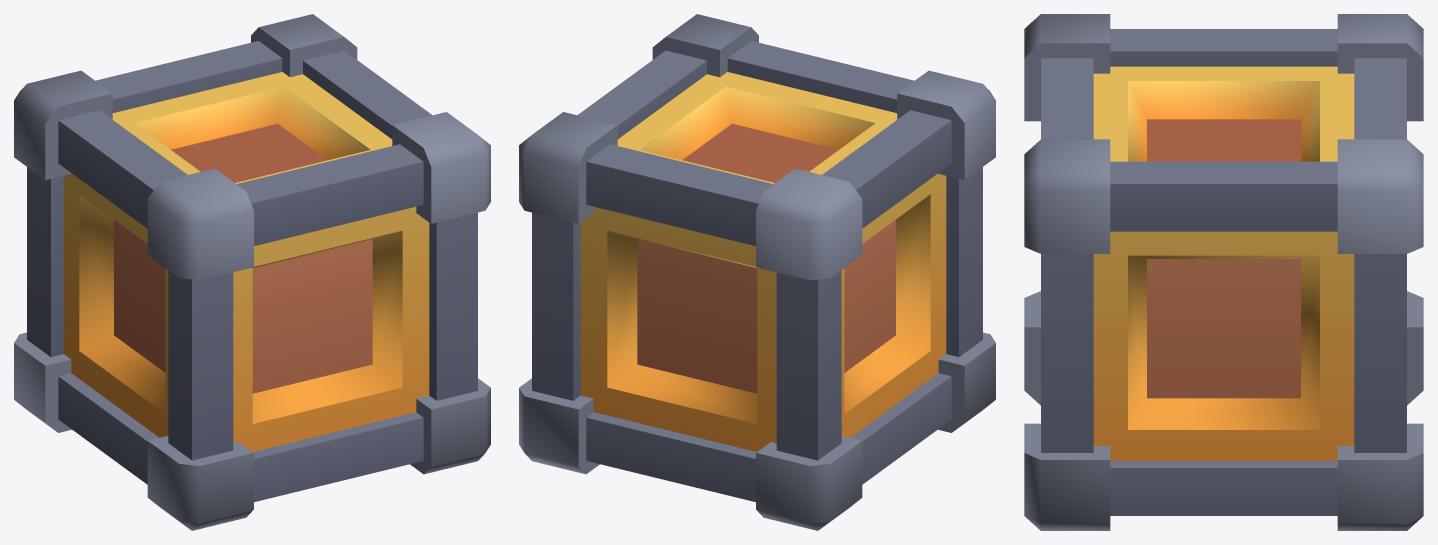
File: kenney-platformer-crate-item-strong.glb
3 views of the same model, side by side, from view 1: azimuth 30°, elevation 25°; view 2: azimuth 150°, elevation 25°; view 3: azimuth 270°, elevation 25° (orthographic). The views are drawn at different scales.
Parts seen in each view (by area): view 1: crate-item-strong; view 2: crate-item-strong; view 3: crate-item-strong.
Boxes of the visible parts, x1,y1,x2,y2 form: crate-item-strong: [14, 14, 490, 530]; crate-item-strong: [519, 14, 995, 530]; crate-item-strong: [1024, 14, 1423, 530].
Size of the model in its own units: 0.6 by 0.6 by 0.6.
Materials: 1 (1 with a texture image).
